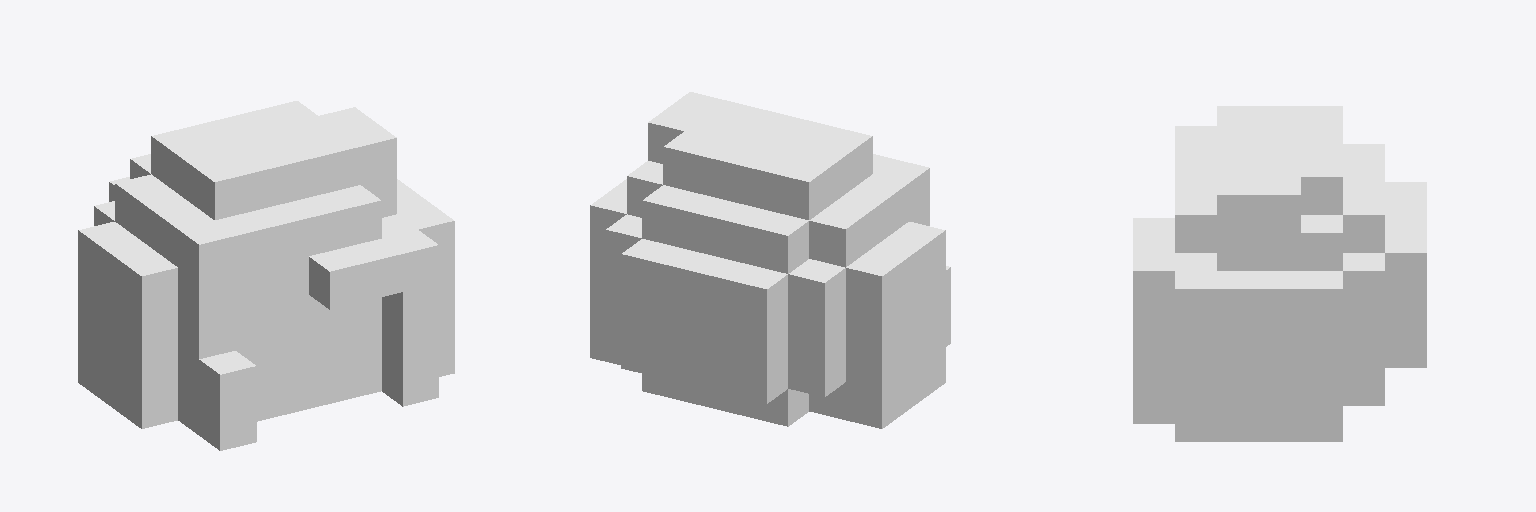
File: player_head.obj
3 renders of one model, left to right at view 1: azimuth 30°, elevation 25°; view 2: azimuth 150°, elevation 25°; view 3: azimuth 270°, elevation 25°, orthographic.
Bounding box in the file's own units: 8 × 6 × 7.